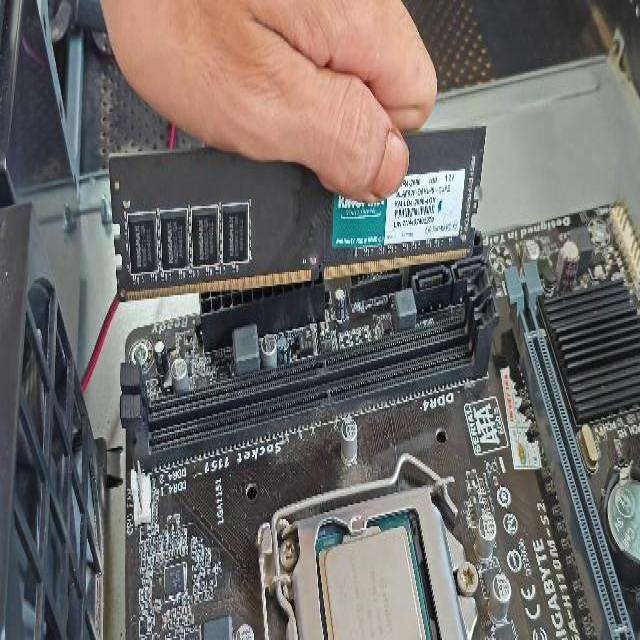CPU: (320, 519, 432, 640)
Mainboard: (121, 192, 639, 640)
RAM: (108, 124, 490, 302)
